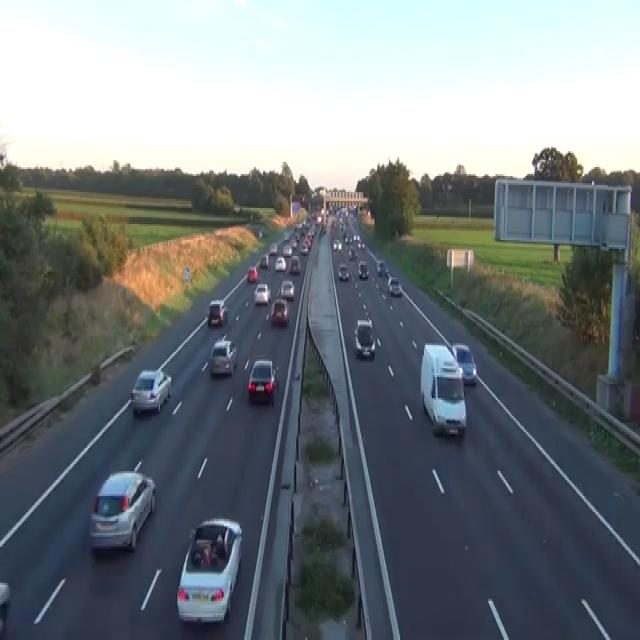Car: (176, 517, 242, 624), (89, 455, 155, 553), (130, 368, 172, 414), (247, 359, 278, 404), (209, 334, 237, 377), (452, 343, 477, 384), (353, 318, 375, 358), (269, 297, 289, 325), (0, 581, 10, 635), (207, 299, 227, 325), (253, 282, 271, 306), (387, 276, 402, 295), (280, 279, 294, 299), (0, 582, 10, 606), (290, 254, 301, 274), (358, 260, 369, 279), (338, 261, 349, 279), (376, 260, 388, 276), (247, 265, 258, 281), (274, 256, 286, 270), (259, 252, 269, 266), (332, 238, 342, 251), (348, 247, 357, 260), (283, 244, 292, 256), (269, 242, 277, 254), (300, 242, 308, 254), (233, 203, 241, 213), (290, 238, 297, 249), (353, 233, 360, 242), (382, 265, 388, 275), (344, 233, 350, 243), (283, 231, 289, 240), (360, 240, 365, 249), (321, 224, 326, 233), (258, 228, 262, 238), (317, 214, 322, 222)
Truck: (420, 343, 466, 437)
